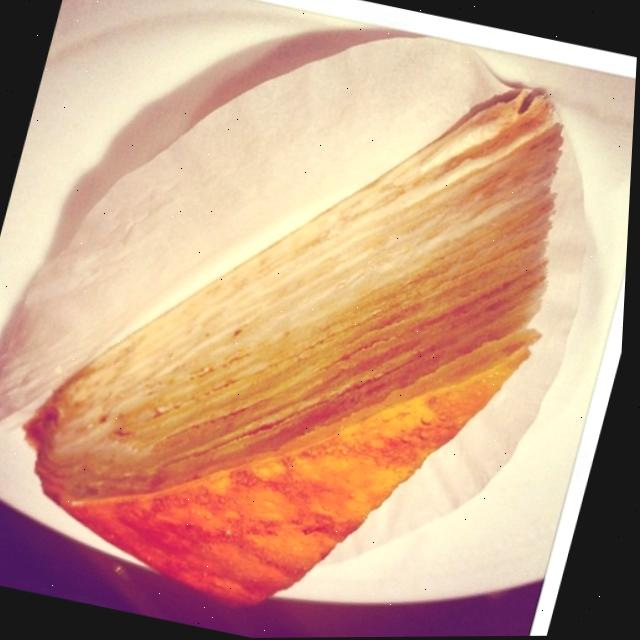蛋糕甜品: (0, 0, 637, 640)
